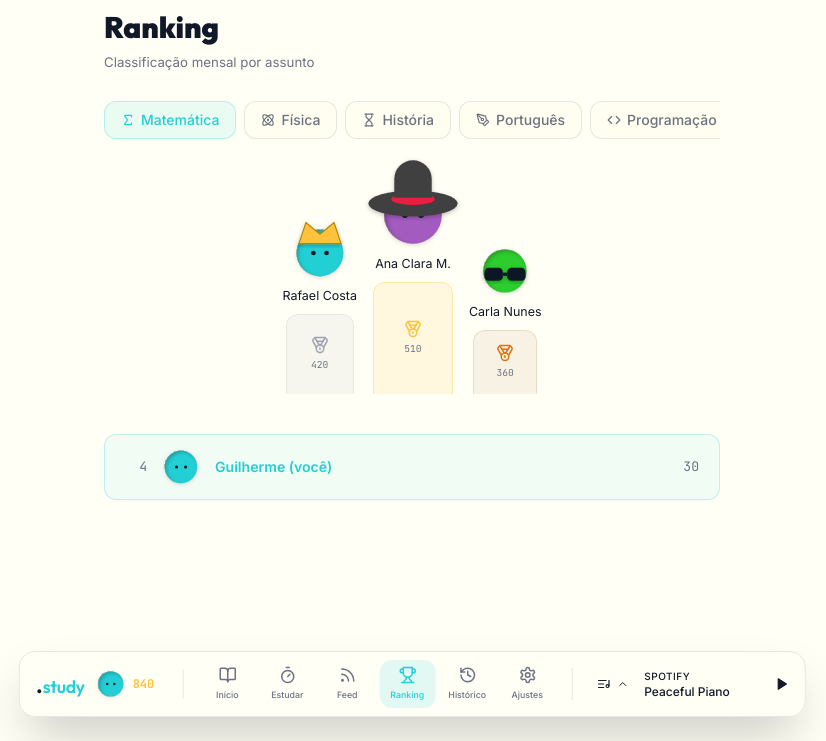
Test: Ranking › mostra Matemática por padrão e troca de assunto
The image size is (826, 741).
Expected: the text "510" is shown, [404,342,422,357]
Click the button "Programação".
click(662, 120)  # box [590,101,734,139]
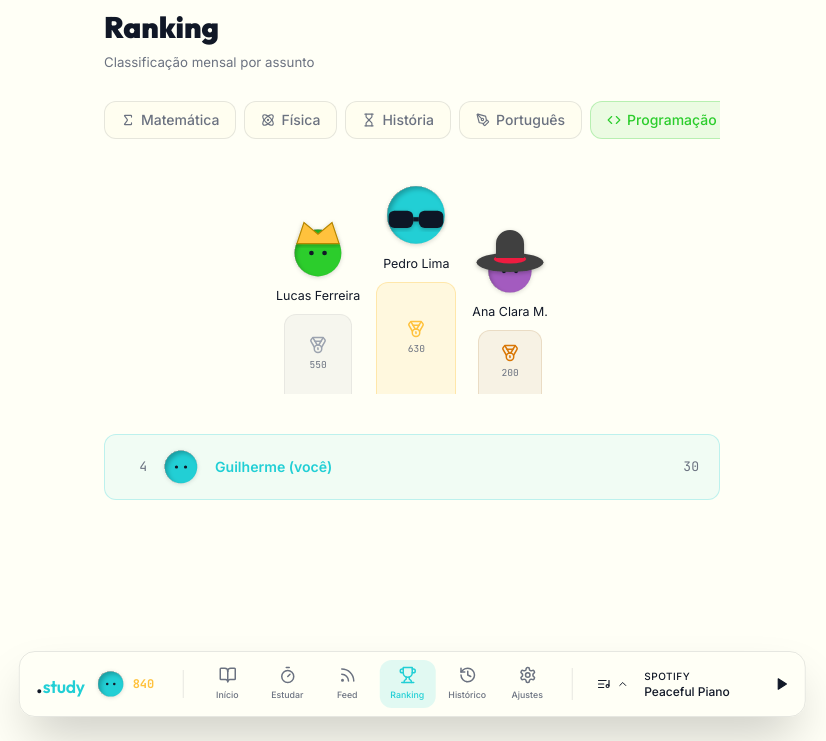
Expected: the text "Pedro Lima" is shown, [383,255,450,274]
